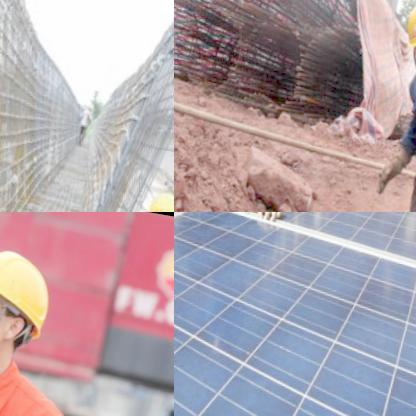helmet: (0, 224, 70, 380), (396, 0, 416, 76), (133, 187, 174, 212)
